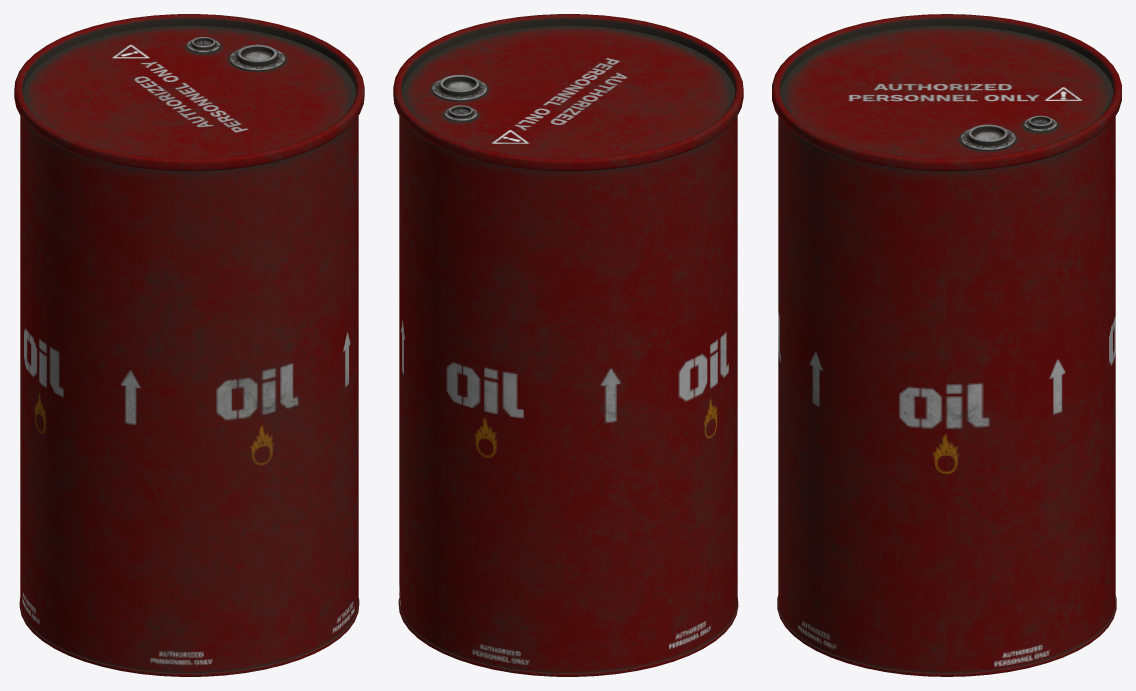
Rendered from oil_barrel.gltf.
3 views of the same model, side by side, from view 1: azimuth 30°, elevation 25°; view 2: azimuth 150°, elevation 25°; view 3: azimuth 270°, elevation 25° (orthographic).
Parts seen in each view (by area): view 1: red; view 2: red; view 3: red.
Part boxes in pixels (left/top/right/bottom): red: left=14, top=14, right=364, bottom=676; red: left=393, top=14, right=743, bottom=676; red: left=772, top=14, right=1121, bottom=676.
Bounding box in the file's own units: 0.7261 × 1.18 × 0.7246.
Materials: 1 (1 with a texture image).
